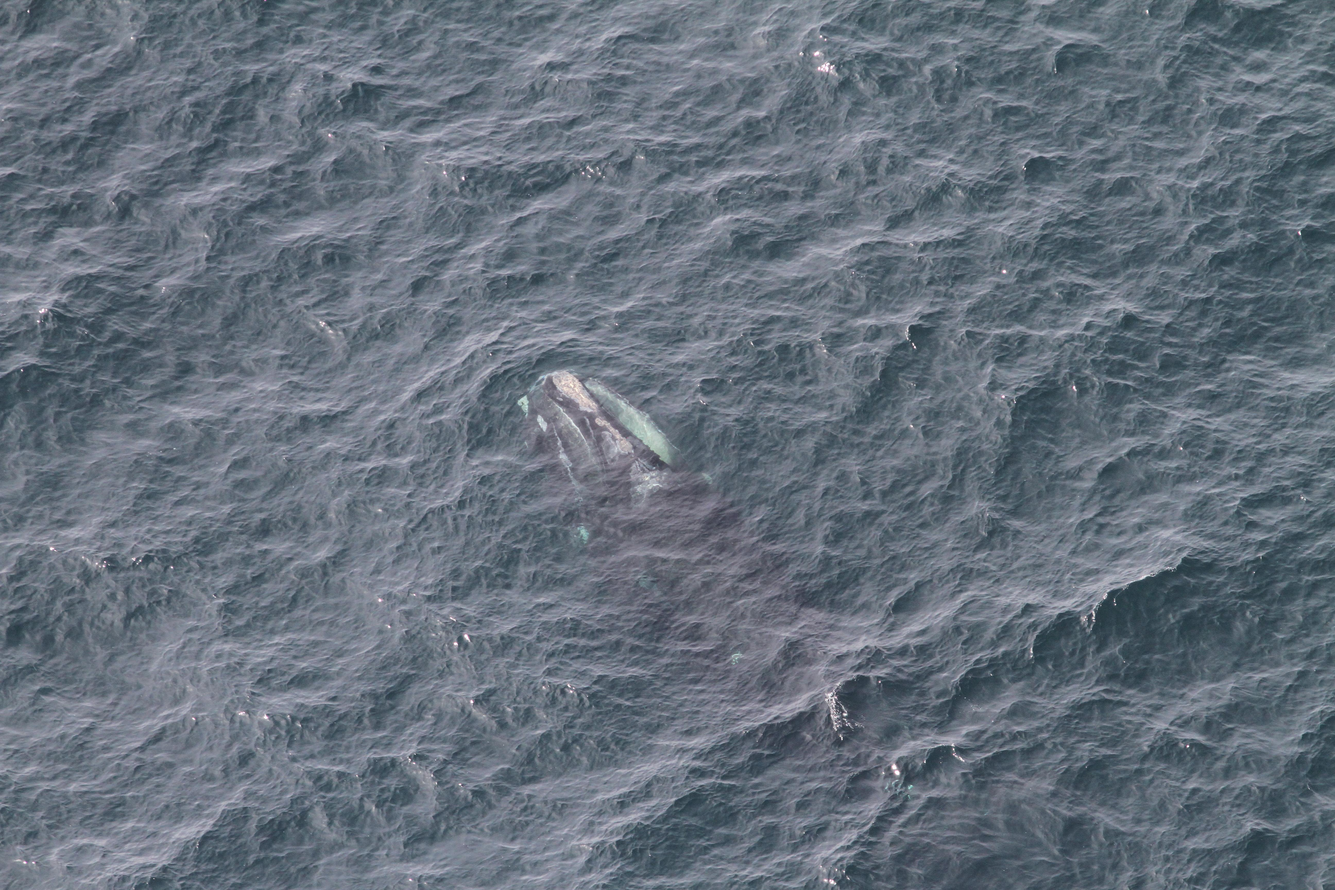whale: (514, 359, 978, 882)
